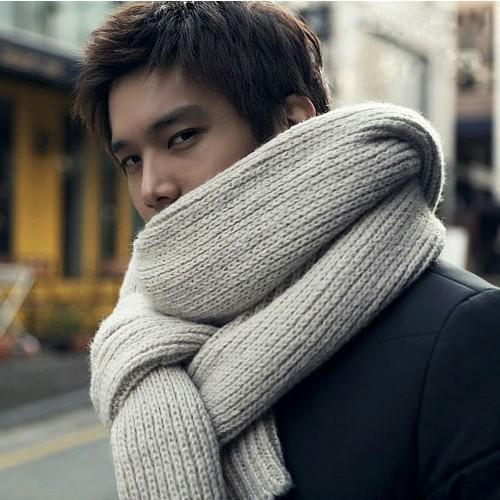WRONG: (111, 89, 268, 260)
